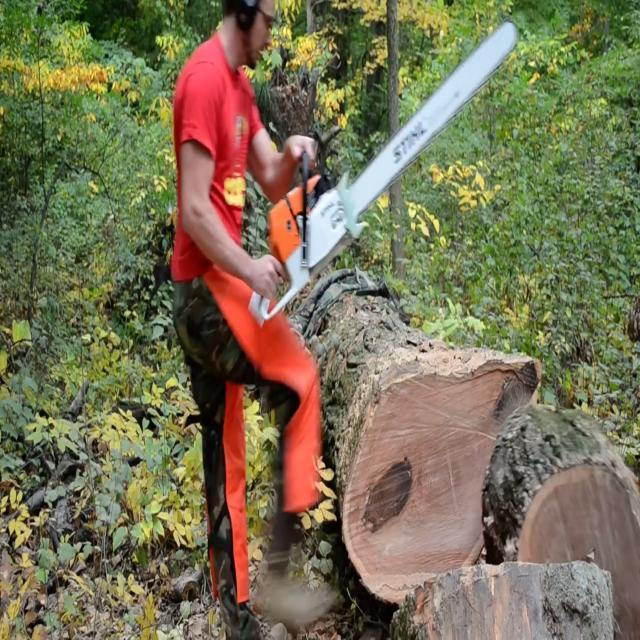Chainsaw: (245, 3, 537, 323)
